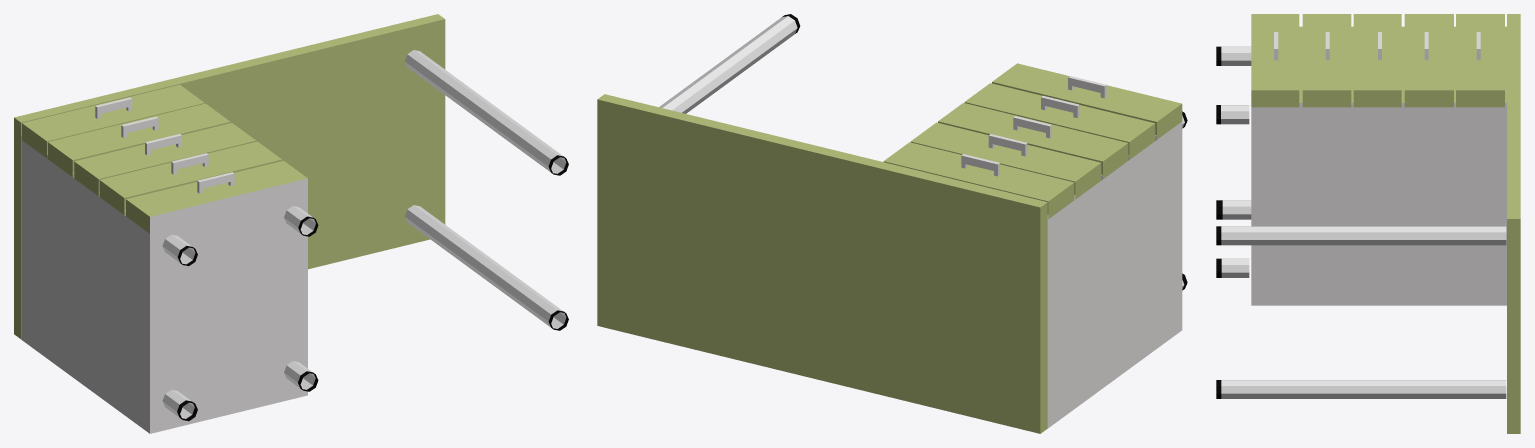
3 views of the same model, side by side, from view 1: azimuth 30°, elevation 25°; view 2: azimuth 150°, elevation 25°; view 3: azimuth 270°, elevation 25° (orthographic). The views are drawn at different scales.
Parts seen in each view (by area): view 1: Cube.001; view 2: Cube.001; view 3: Cube.001.
Boxes of the visible parts, x1=… form: Cube.001: x1=14, y1=14, x2=568, y2=433; Cube.001: x1=597, y1=14, x2=1187, y2=433; Cube.001: x1=1216, y1=14, x2=1520, y2=433.
Size of the model in its own units: 120 by 61.76 by 75.24.
